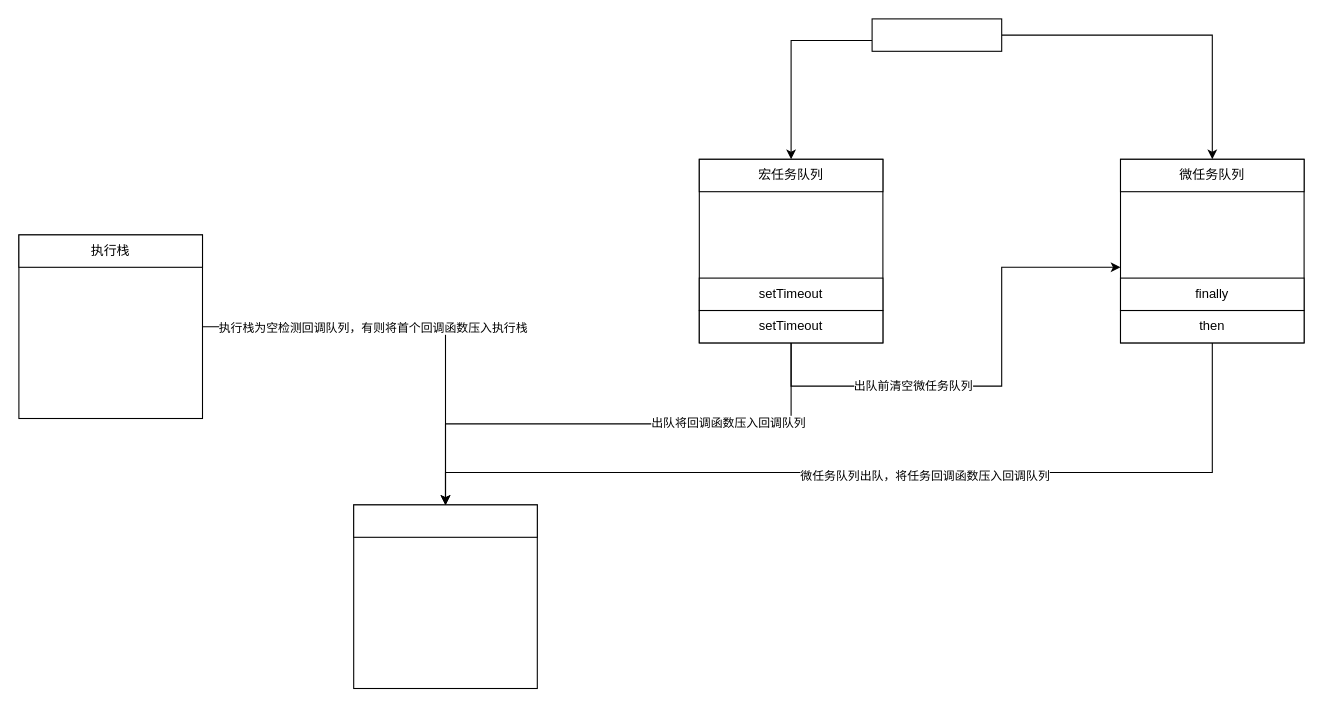
Image size: 1323x707. Some labels were removed from this diagram. Here are the shapes that lost their labels. From the top down, the centre of each, then its label:
the point at 936,34: 事件队列
the point at 445,520: 回调队列
